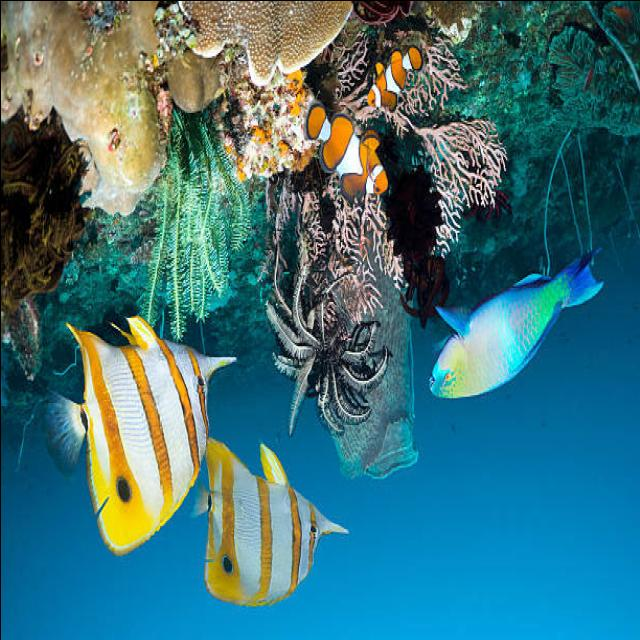ClownFish: (298, 95, 389, 203), (360, 44, 428, 116)
